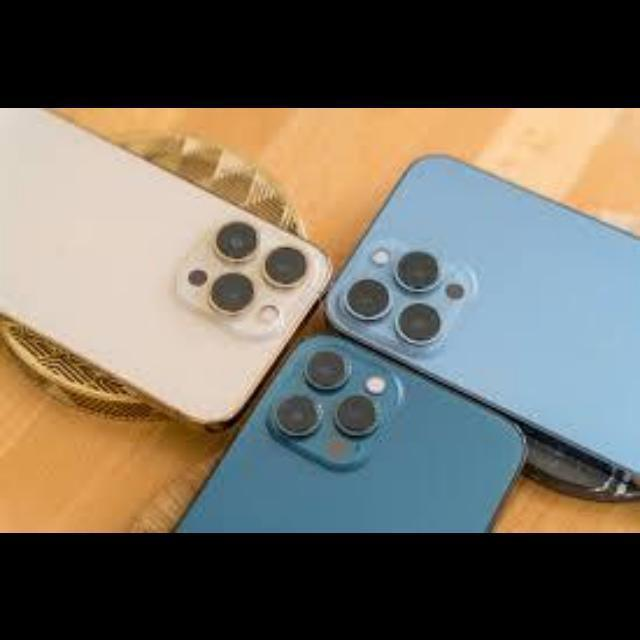phone: (86, 138, 640, 518)
